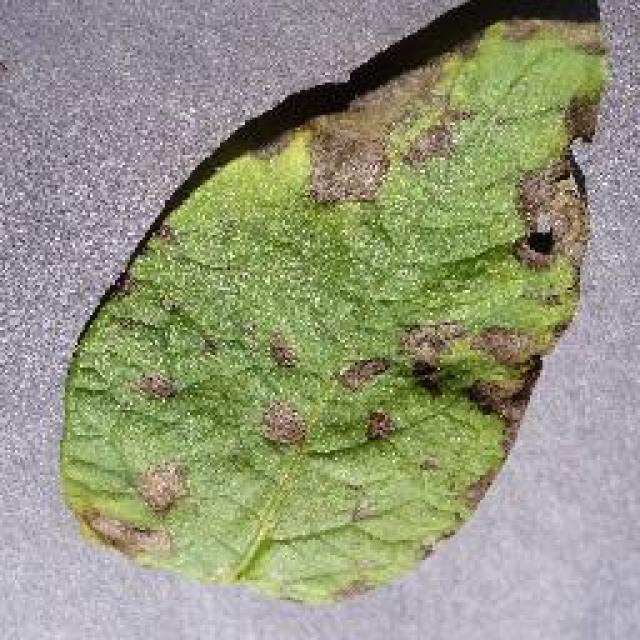early_blight: (52, 15, 610, 607)
